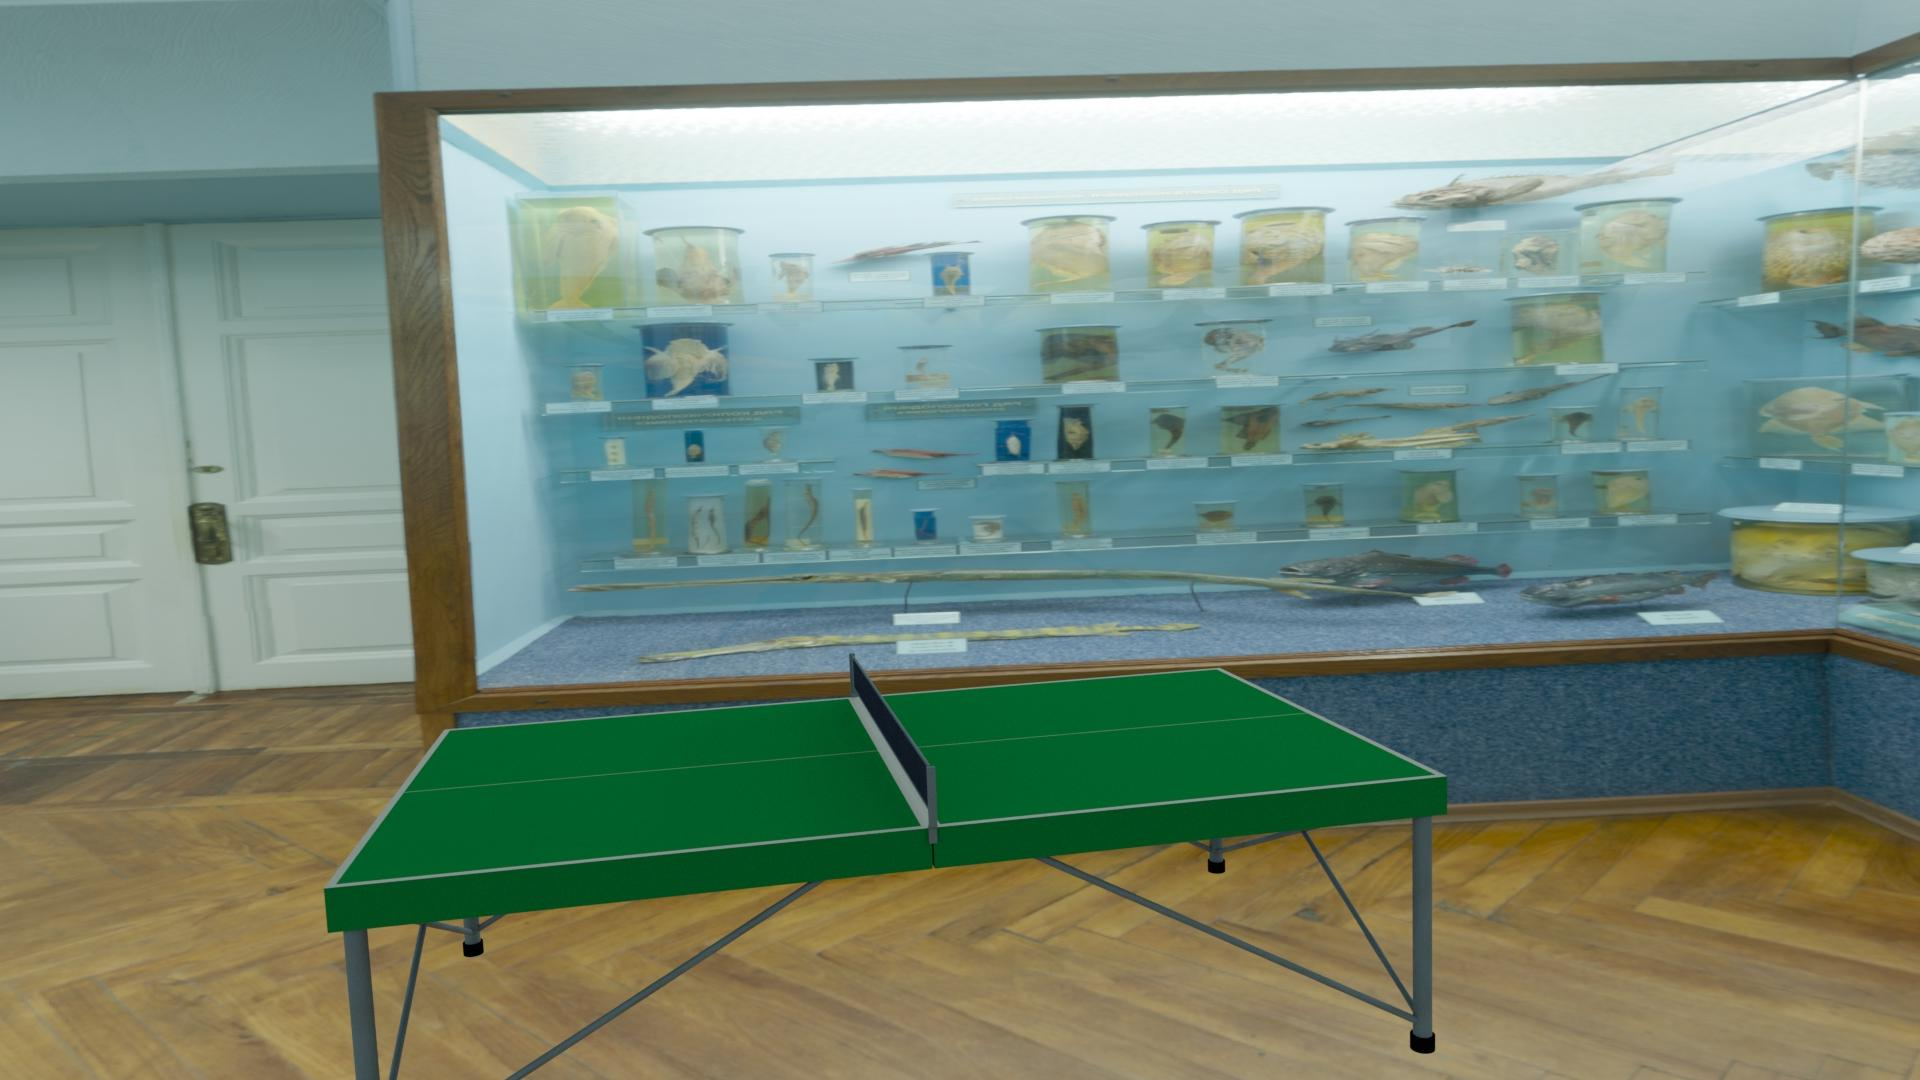table: (336, 670, 1436, 885)
